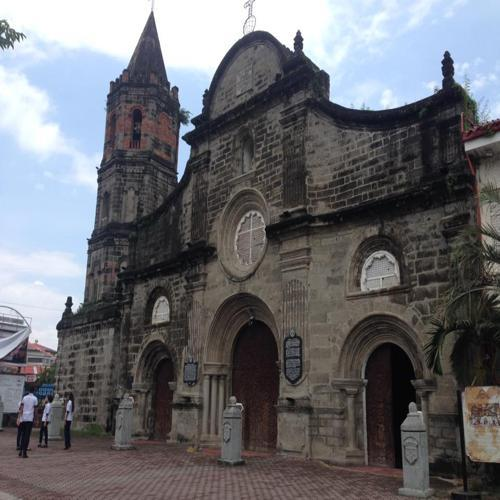Barasoain Church: (51, 2, 493, 466)
